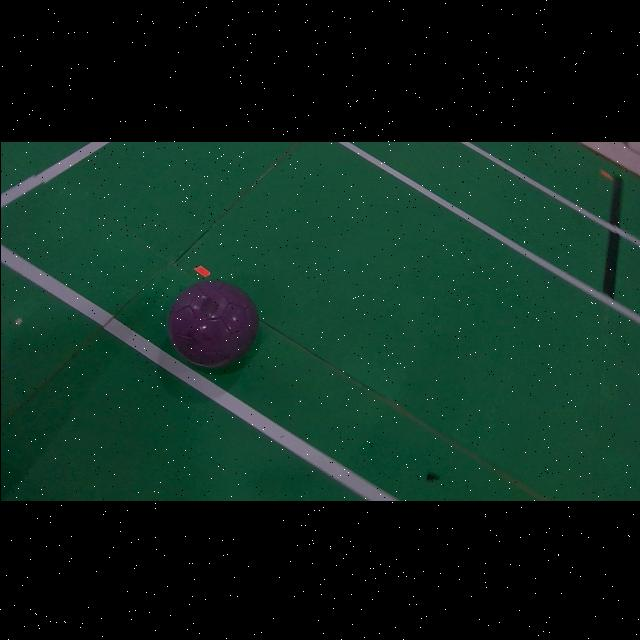P: (168, 279, 257, 366)
